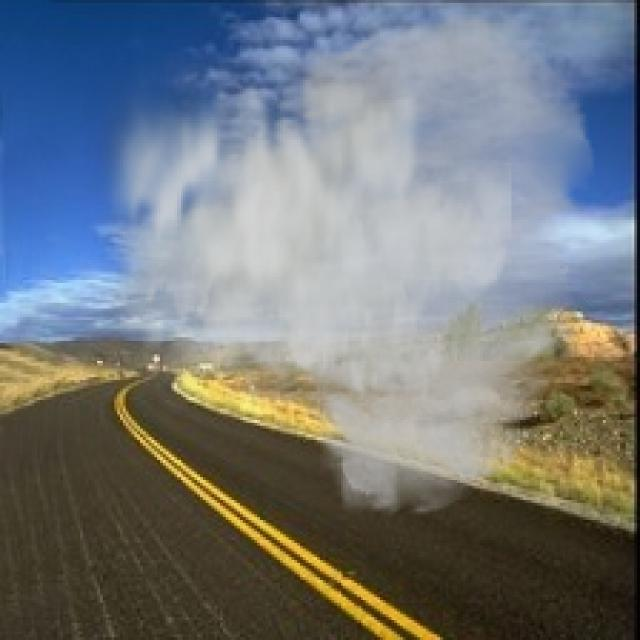Smoke: (82, 0, 598, 520)
